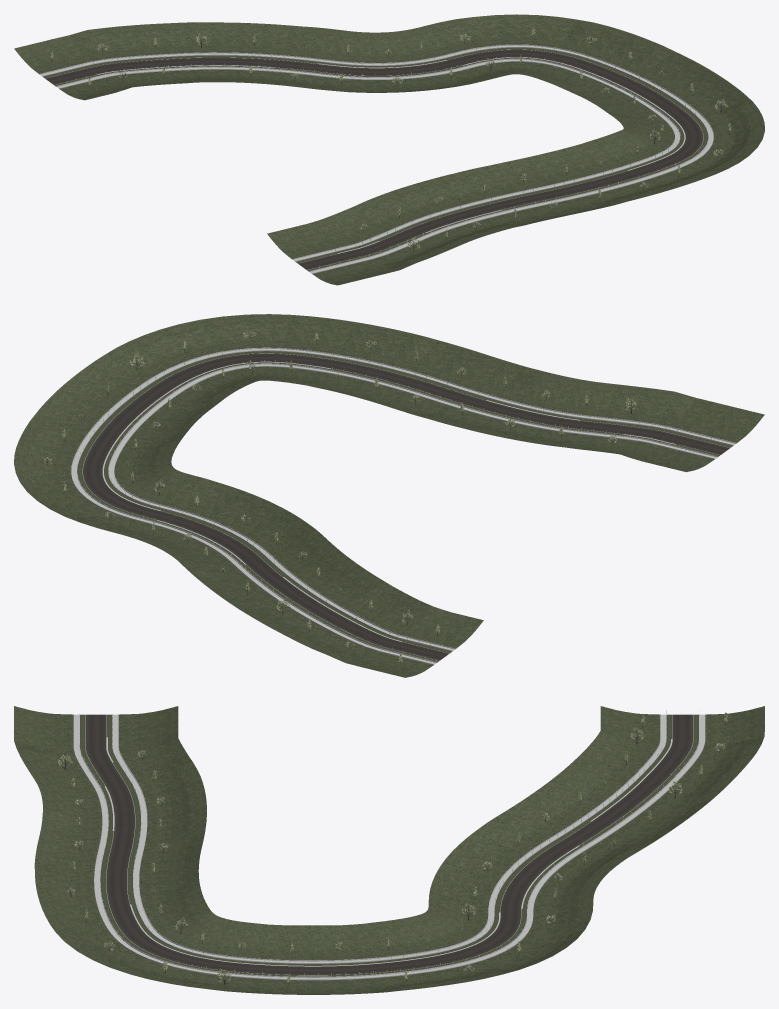
3 renders of one model, top to bottom at view 1: azimuth 30°, elevation 25°; view 2: azimuth 150°, elevation 25°; view 3: azimuth 270°, elevation 25°, orthographic. The views are drawn at different scales.
Parts seen in each view (by area): view 1: Grass, Road, Track, Trees, Curbs; view 2: Grass, Road, Track, Trees, Curbs; view 3: Grass, Road, Track, Trees, Curbs.
Boxes of the visible parts, left/top/right/bottom form: Grass: left=14, top=14, right=764, bottom=285; Road: left=45, top=49, right=703, bottom=269; Track: left=39, top=44, right=713, bottom=273; Trees: left=50, top=26, right=730, bottom=252; Curbs: left=97, top=57, right=685, bottom=253; Grass: left=14, top=314, right=764, bottom=677; Road: left=83, top=353, right=729, bottom=660; Track: left=71, top=347, right=736, bottom=664; Trees: left=43, top=331, right=636, bottom=665; Curbs: left=103, top=362, right=675, bottom=641; Grass: left=14, top=706, right=764, bottom=994; Road: left=86, top=714, right=692, bottom=974; Track: left=73, top=710, right=705, bottom=980; Trees: left=58, top=712, right=727, bottom=986; Curbs: left=104, top=737, right=672, bottom=966.
Size of what is drawn, in the model's own units: 57579 by 2581 by 64000.
